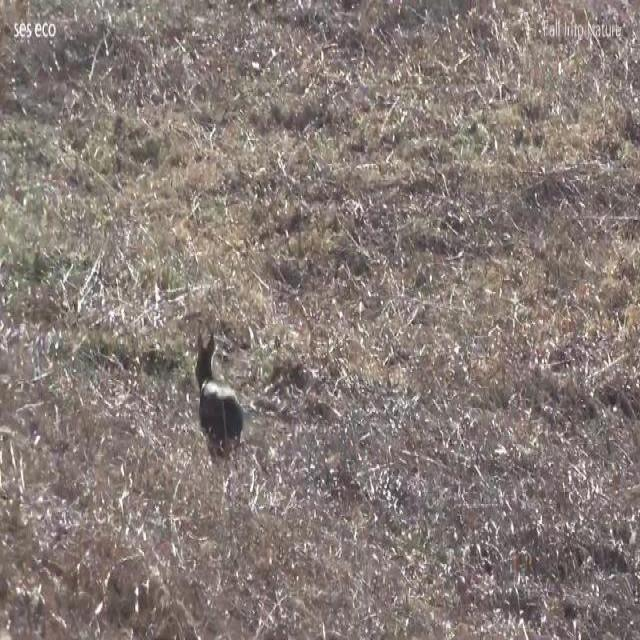deer: (192, 327, 245, 457)
